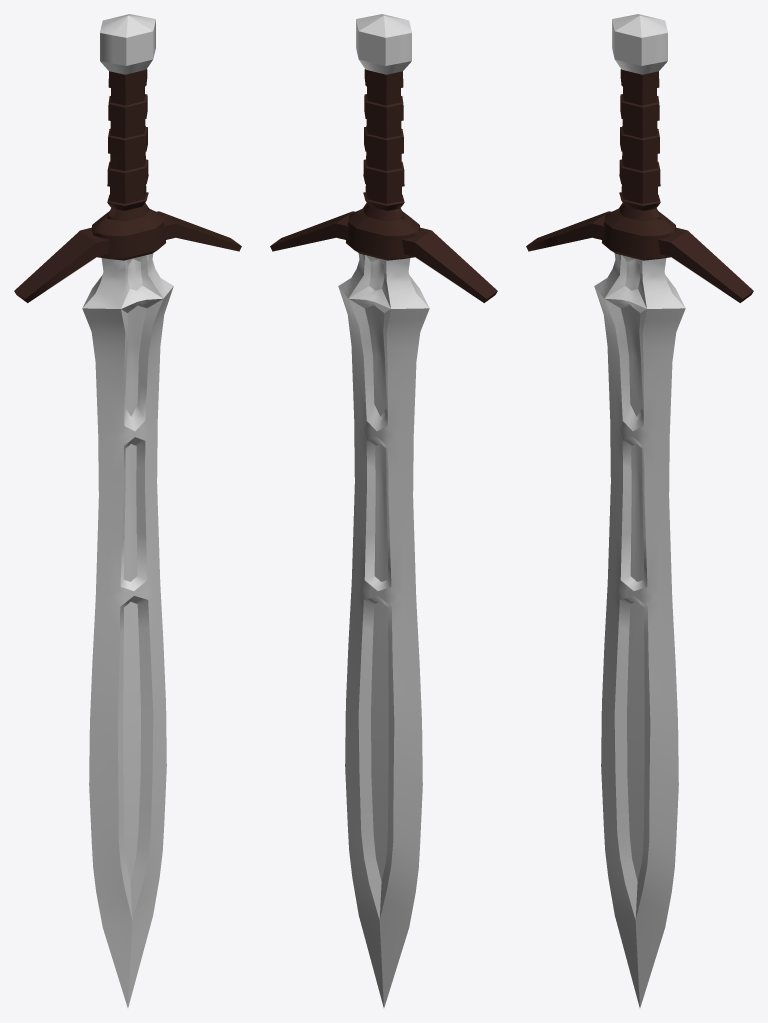
Rendered from Sword.fbx.
3 views of the same model, side by side, from view 1: azimuth 30°, elevation 25°; view 2: azimuth 150°, elevation 25°; view 3: azimuth 330°, elevation 25° (orthographic).
Parts seen in each view (by area): view 1: Sword_Standard; view 2: Sword_Standard; view 3: Sword_Standard.
Boxes of the visible parts, x1,y1,x2,y2 form: Sword_Standard: (14,14,241,1007); Sword_Standard: (270,14,497,1007); Sword_Standard: (526,14,753,1007).
Bounding box in the file's own units: 22.17 × 97.04 × 5.05.
